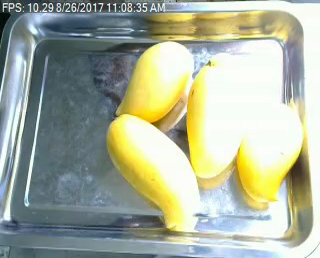Mango: (107, 112, 202, 233), (181, 50, 253, 177), (234, 99, 305, 205), (116, 40, 194, 123)
